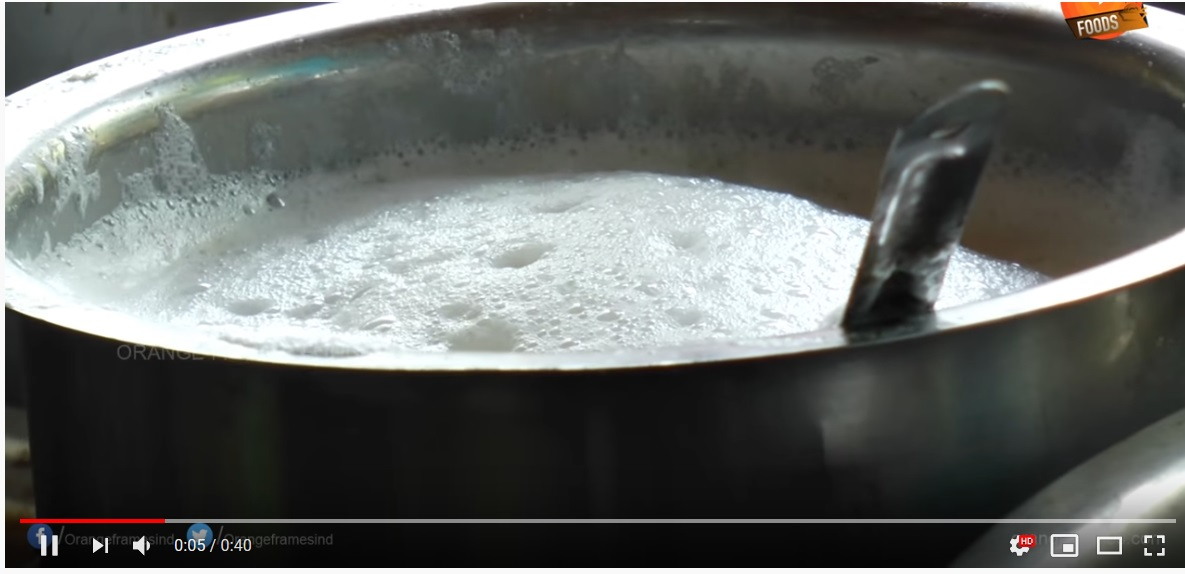Steaming: (38, 114, 1127, 370)
